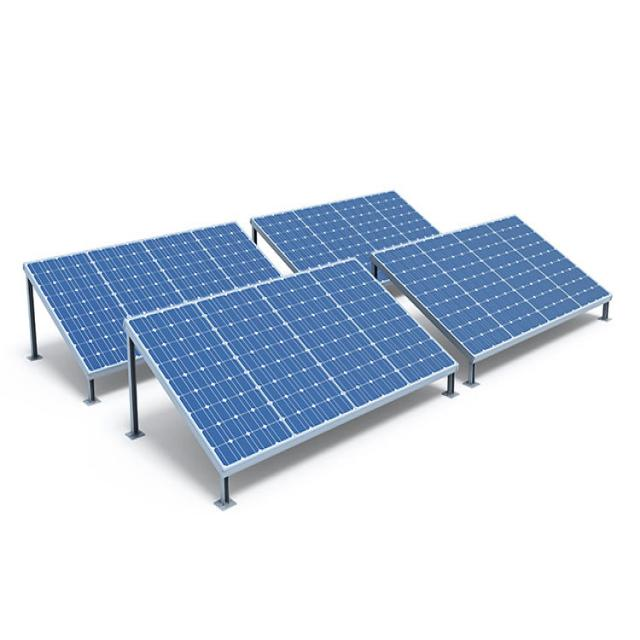clean-solar-panel: (127, 260, 456, 468), (24, 223, 279, 371), (371, 216, 611, 359)
